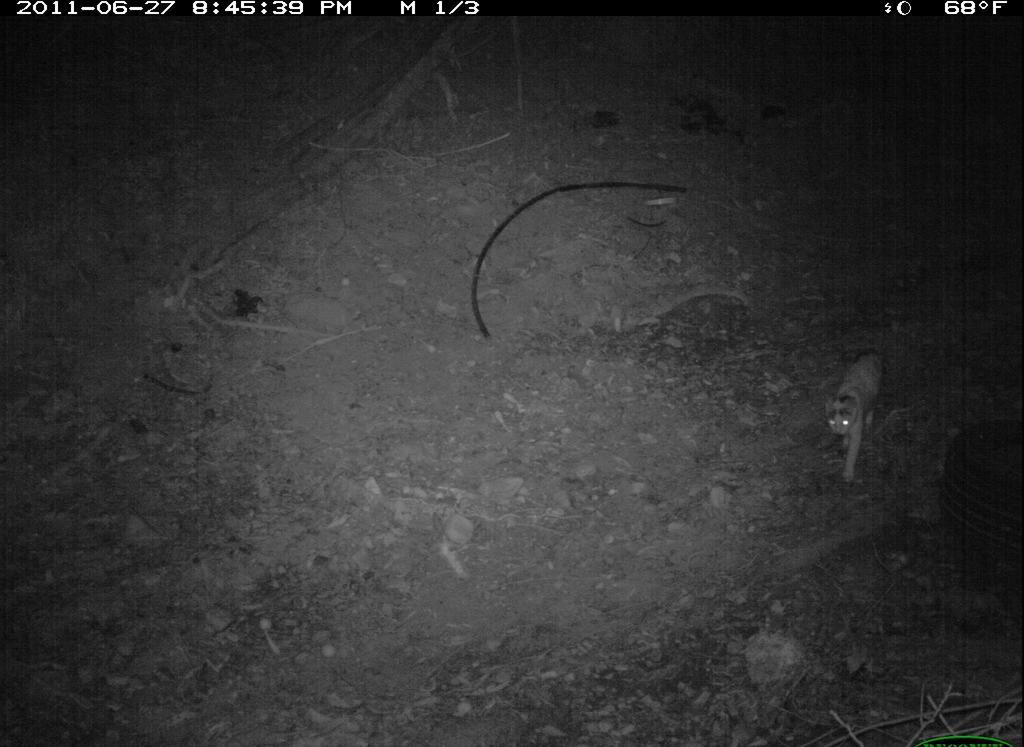cat: (807, 338, 908, 487)
